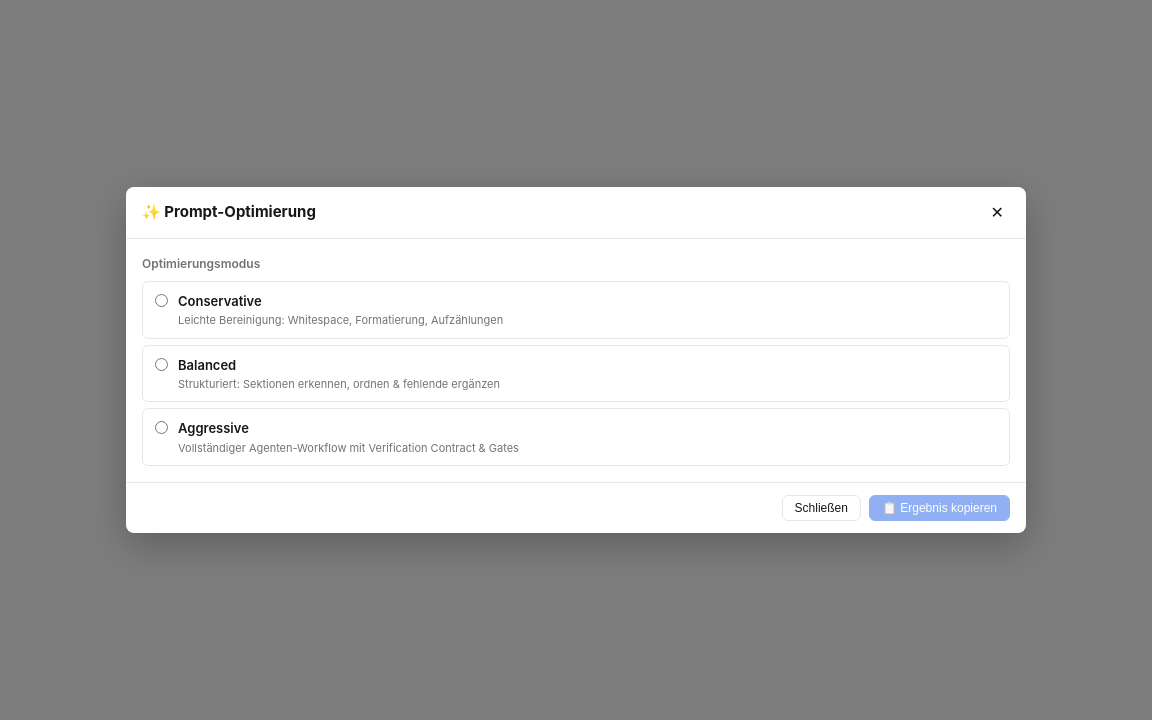
Test: OptimizationPanel › interactions › shows warning when prompt is short
Click the 1st radio button at coordinates (162, 300), box top-left (155, 294), bottom-right (168, 307)
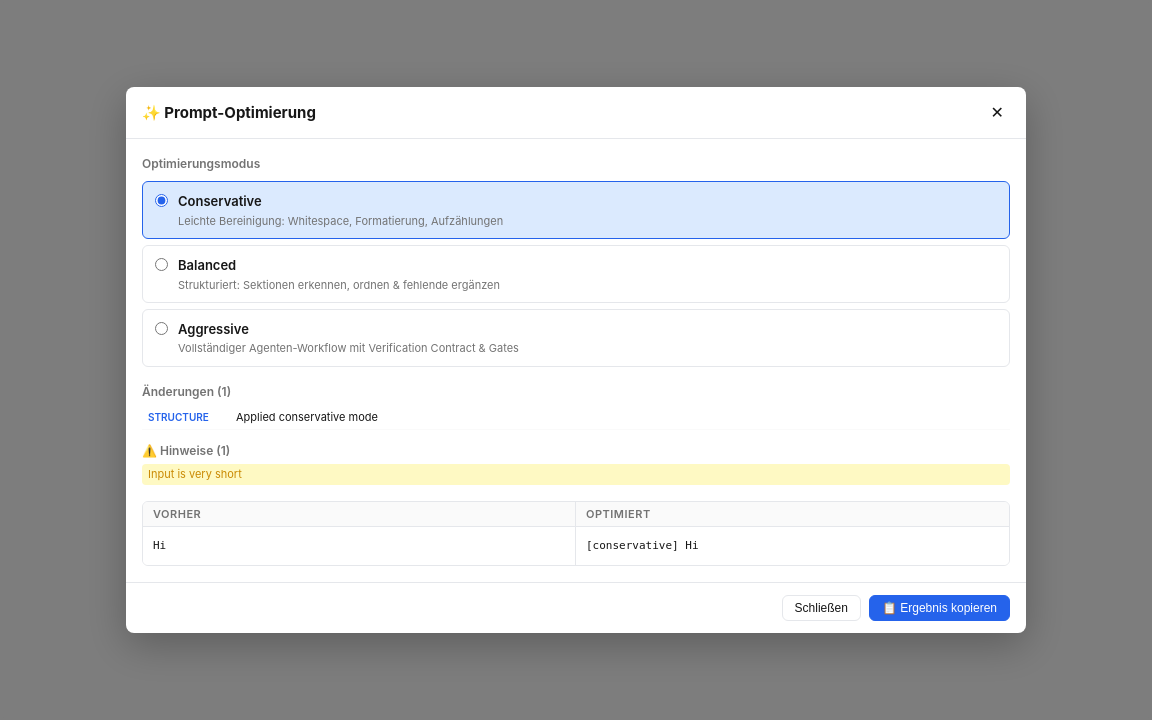
expect the list item "Input is very short" is shown: met, box top-left (142, 464), bottom-right (1010, 485)
